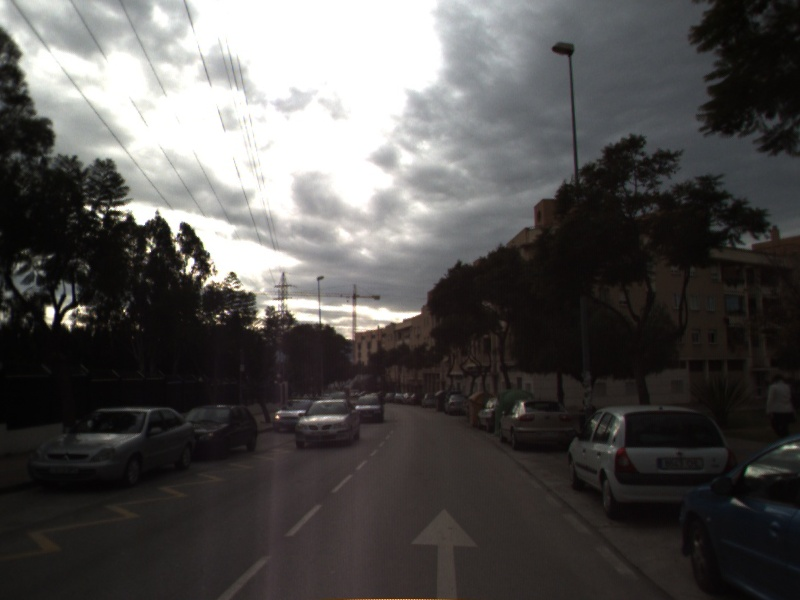STRAIGHT: (409, 506, 482, 600)
